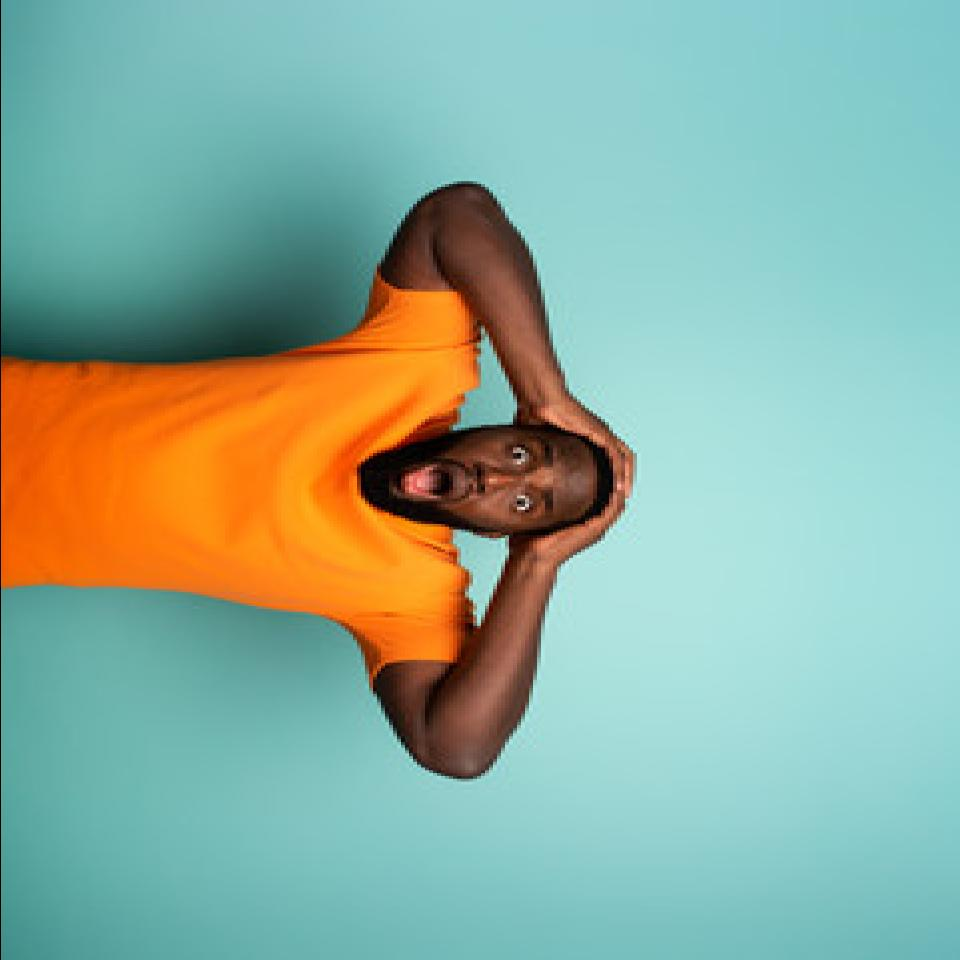Scared: (382, 424, 630, 530)
